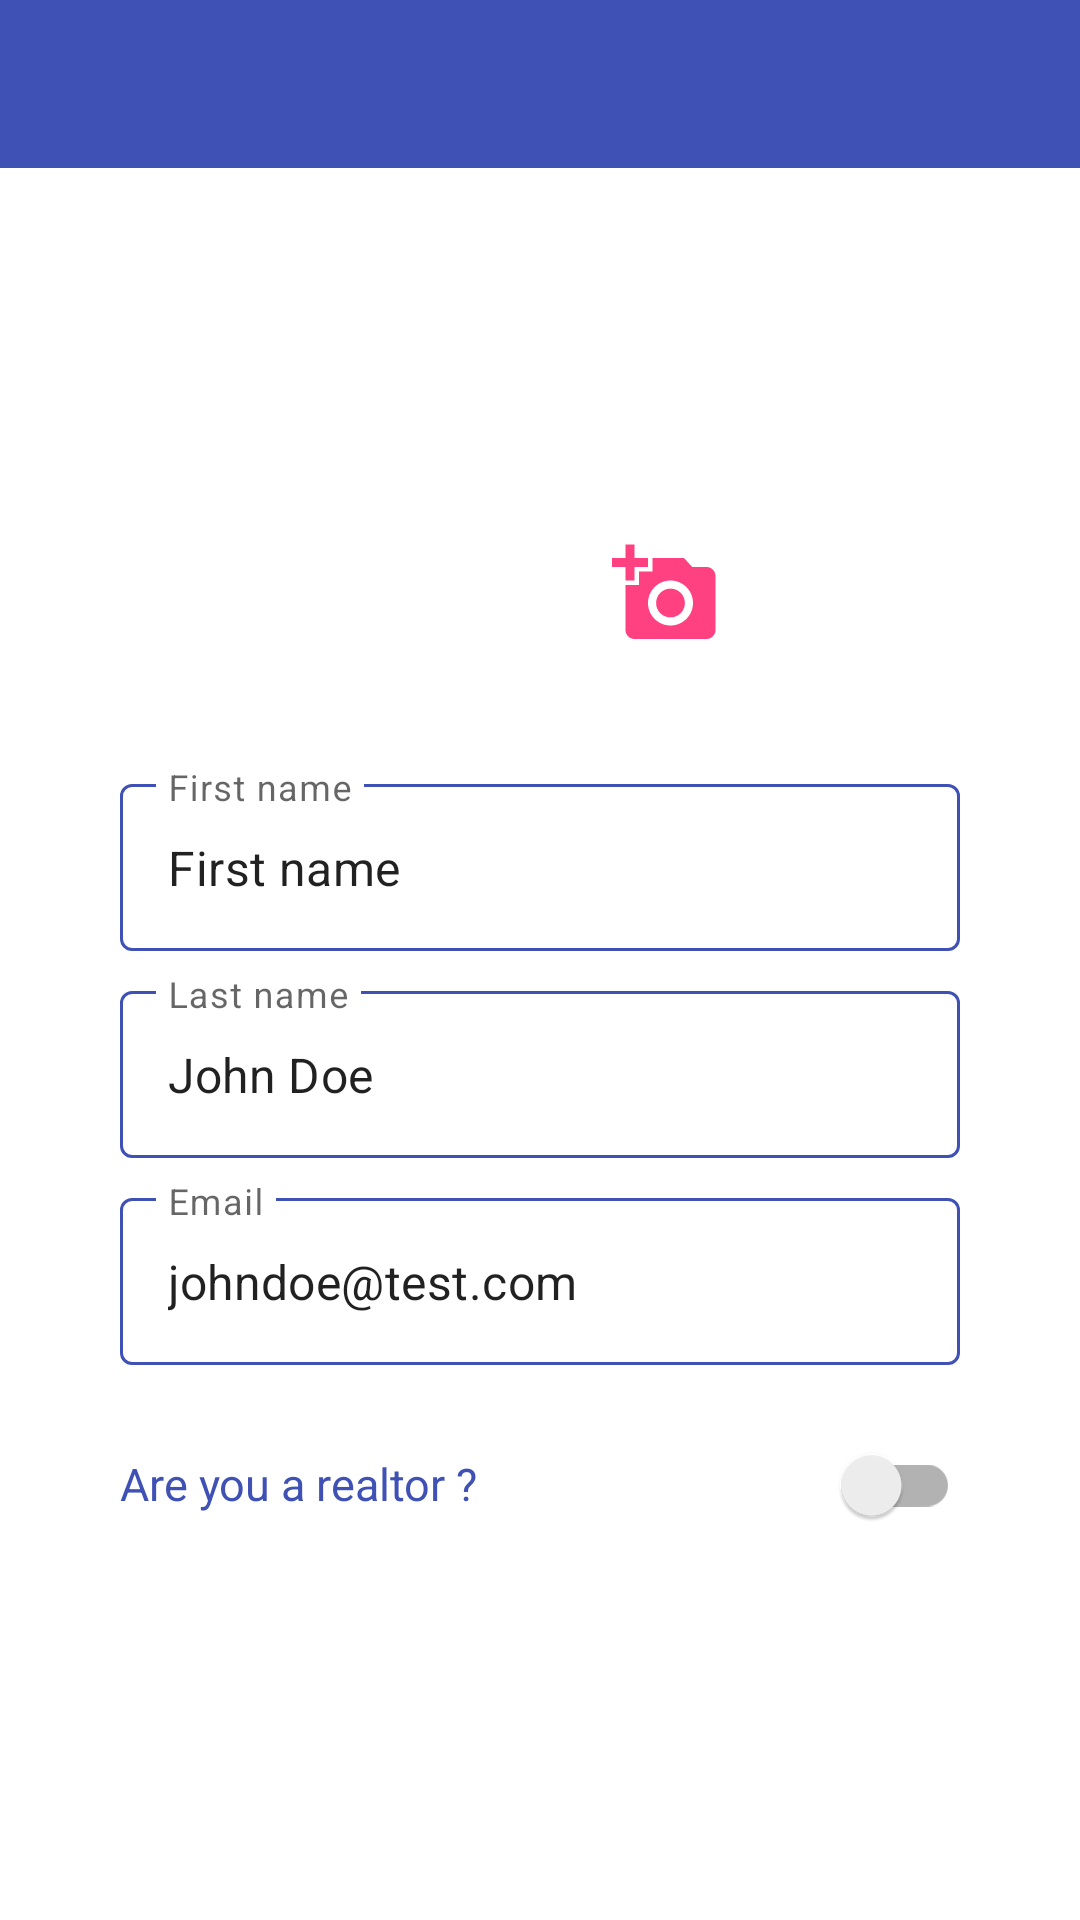

Named icons in this screenshot (1080 × 1920) and their bounding boxes, (x1, y1, x2, y2):
update user picture: (612, 544, 716, 639)
